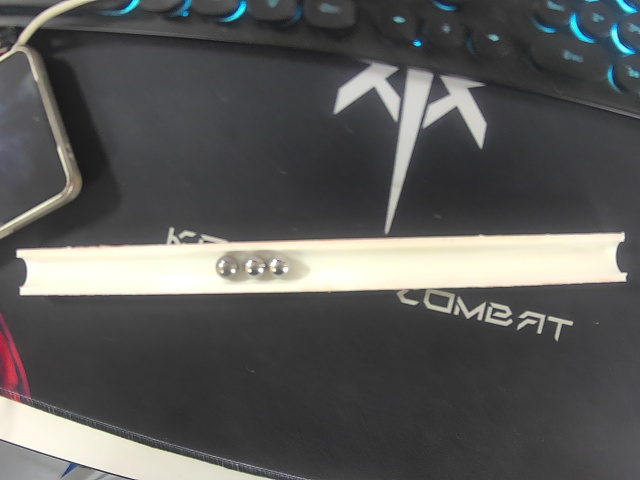steelball: (214, 253, 240, 278), (243, 255, 266, 276), (268, 256, 289, 278)
